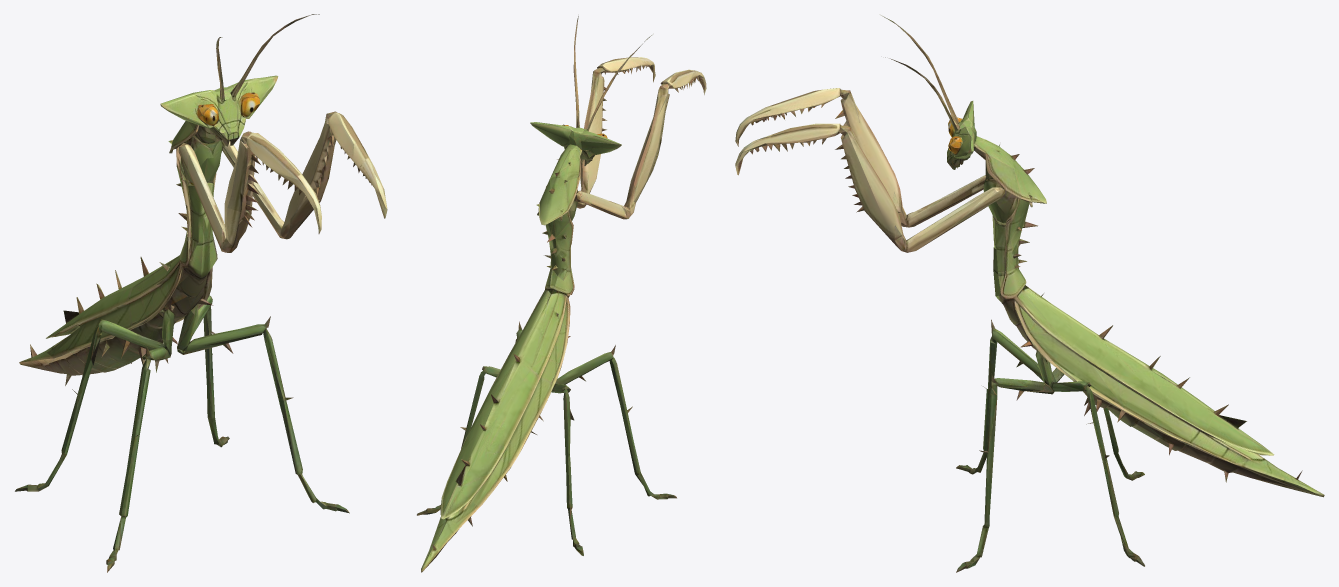
File: thicket_mantis.glb
3 views of the same model, side by side, from view 1: azimuth 30°, elevation 25°; view 2: azimuth 150°, elevation 25°; view 3: azimuth 270°, elevation 25° (orthographic). The views are drawn at different scales.
Bounding box in the file's own units: 0.7989 × 1.73 × 1.9.
Materials: 1 (1 with a texture image).
